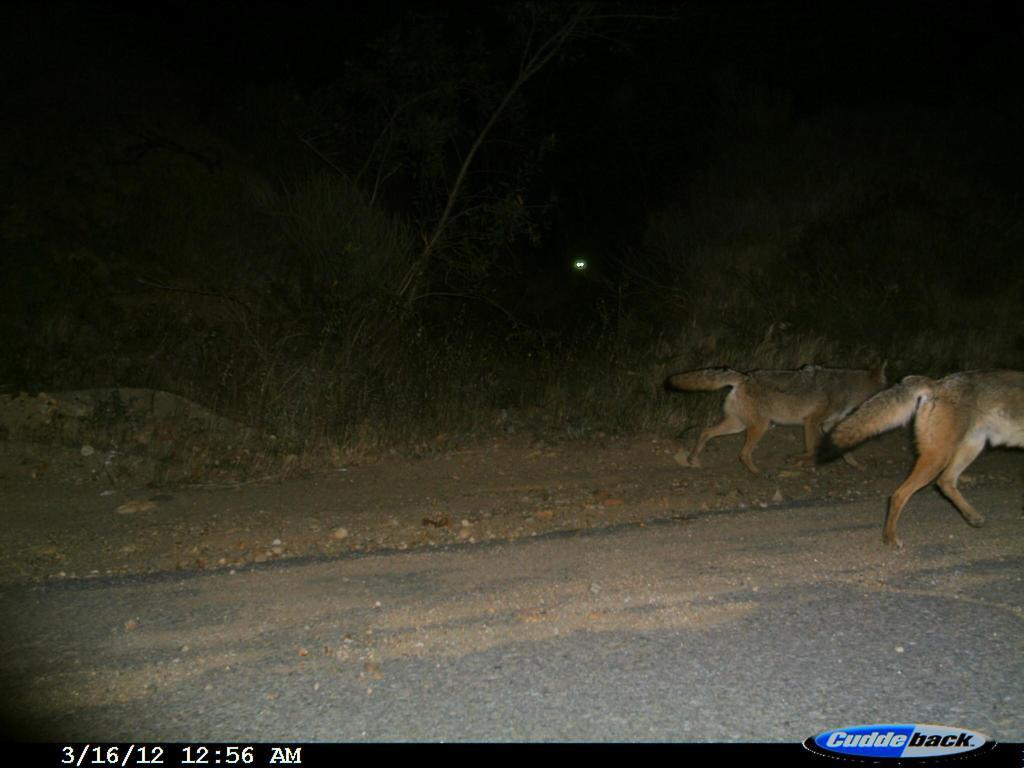coyote: (812, 360, 1022, 552), (637, 338, 904, 469)
